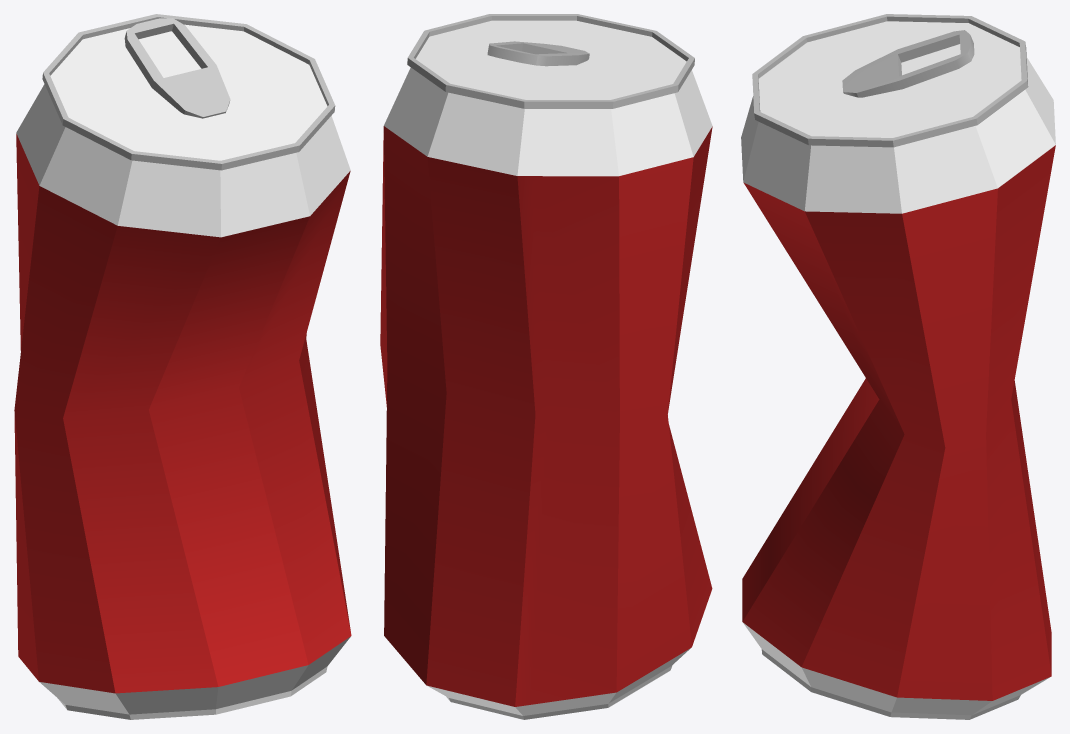
Rendered from crushedcan_a.fbx.
3 renders of one model, left to right at view 1: azimuth 30°, elevation 25°; view 2: azimuth 150°, elevation 25°; view 3: azimuth 270°, elevation 25°, orthographic.
Parts seen in each view (by area): view 1: CrushedCan_A; view 2: CrushedCan_A; view 3: CrushedCan_A.
Boxes of the visible parts, box(x1,y1,x2,y2) form: CrushedCan_A: box(14, 14, 351, 719); CrushedCan_A: box(380, 14, 712, 719); CrushedCan_A: box(741, 14, 1055, 719).
Size of the model in its own units: 0.098 by 0.2089 by 0.0929.
